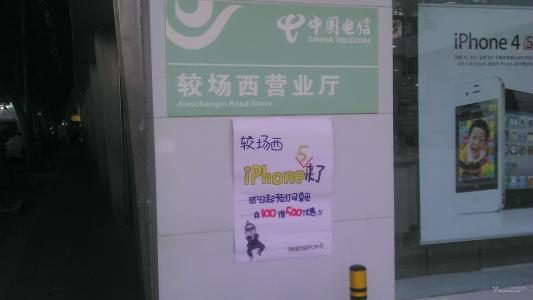bill: (418, 3, 533, 247), (164, 1, 380, 115), (233, 113, 333, 262)
